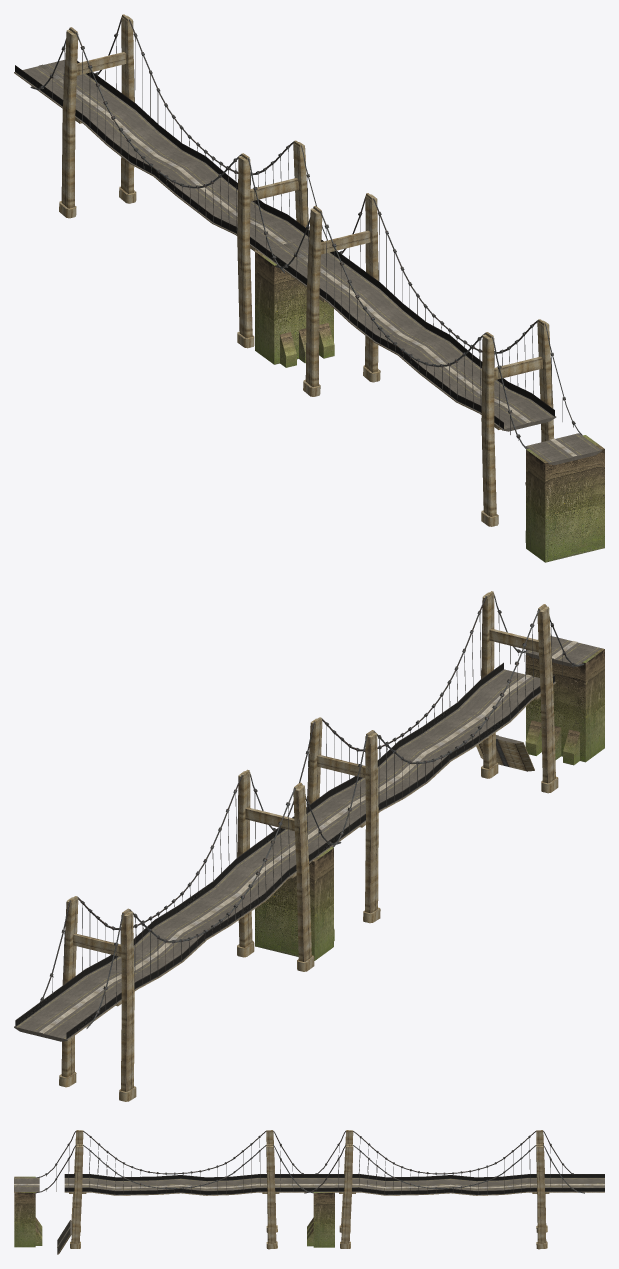
Rendered from Bridge_01.fbx.
3 views of the same model, one above another, from view 1: azimuth 30°, elevation 25°; view 2: azimuth 150°, elevation 25°; view 3: azimuth 270°, elevation 25° (orthographic). The views are drawn at different scales.
Visible parts, largest first — view 1: Bridge_01; view 2: Bridge_01; view 3: Bridge_01.
Boxes of the visible parts, x1,y1,x2,y2 form: Bridge_01: (14,14,604,562); Bridge_01: (14,591,604,1101); Bridge_01: (14,1130,604,1254).
Bounding box in the file's own units: 2673 × 5326 × 27591.
